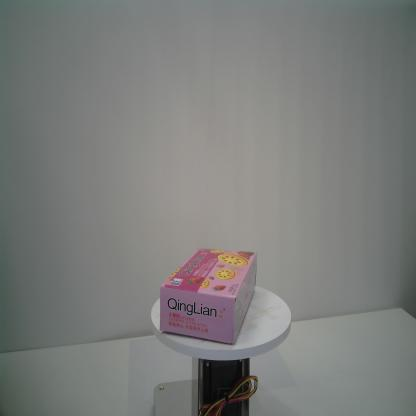Dessert: (158, 245, 259, 346)
